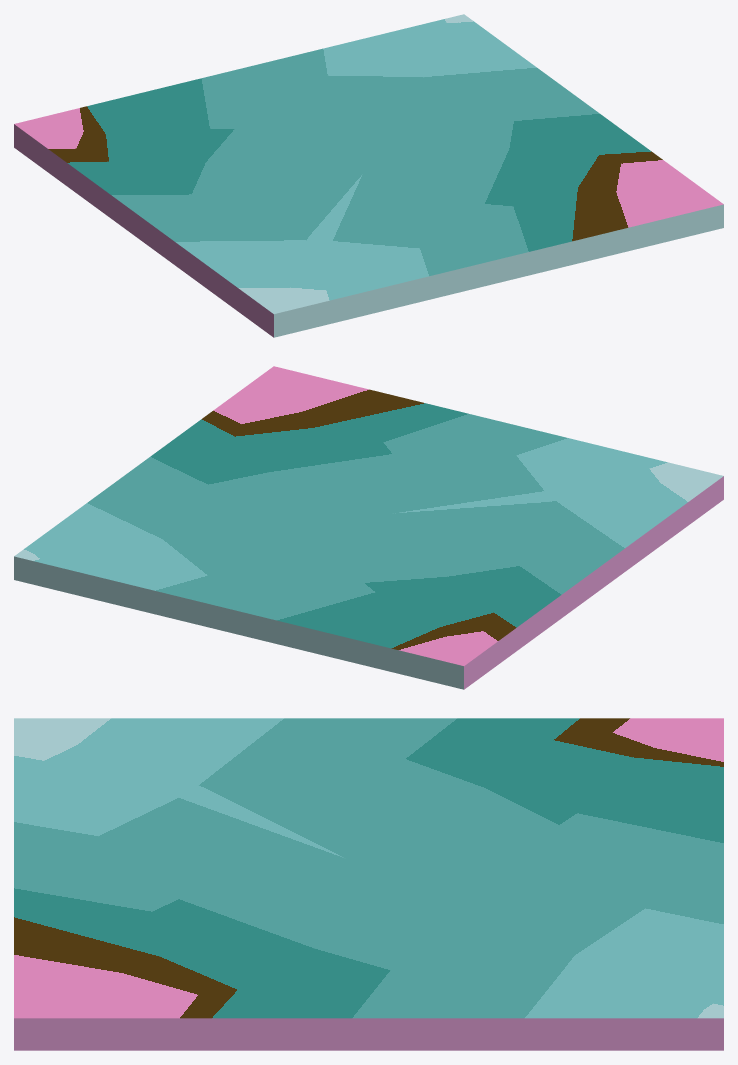
The model's file is Pendule2D.fbx.
3 views of the same model, one above another, from view 1: azimuth 30°, elevation 25°; view 2: azimuth 150°, elevation 25°; view 3: azimuth 270°, elevation 25° (orthographic). The views are drawn at different scales.
Visible parts, largest first — view 1: Pendule2DPlatform; view 2: Pendule2DPlatform; view 3: Pendule2DPlatform.
Part boxes in pixels (box(x1,y1,x2,y2)): Pendule2DPlatform: box(14, 14, 723, 337); Pendule2DPlatform: box(14, 366, 723, 689); Pendule2DPlatform: box(14, 718, 723, 1050).
Size of the model in its own units: 8 by 8 by 1.71.
